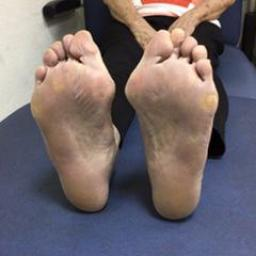Plantar View -Both Feet-: (27, 24, 222, 227)
